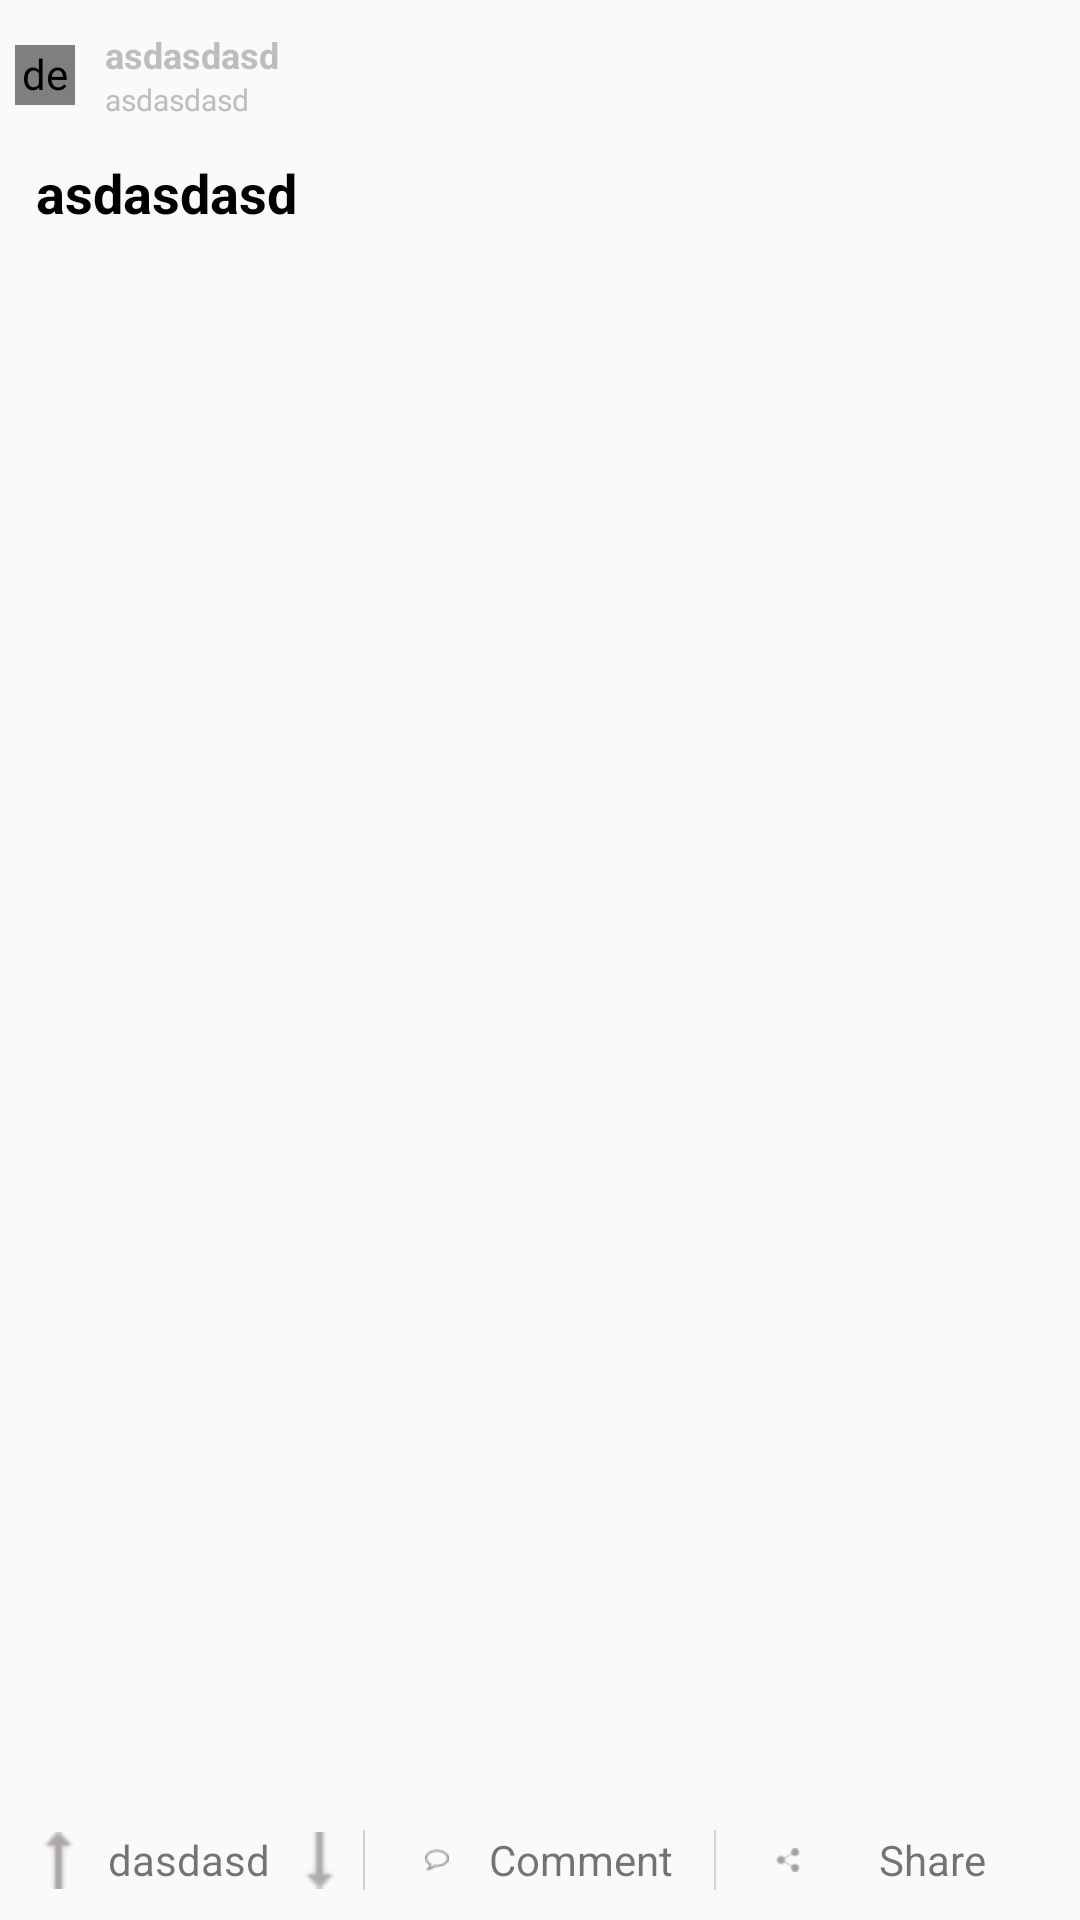

Icon click points for this 1080px x 1920px phone screenshot, format [x,y]:
down arrow: [319,1860]
up arrow: [58,1860]
